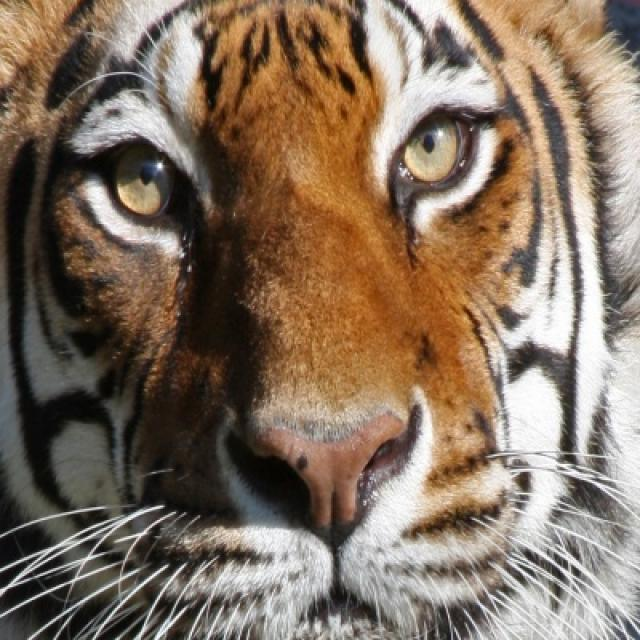Tiger: (7, 3, 638, 633)
